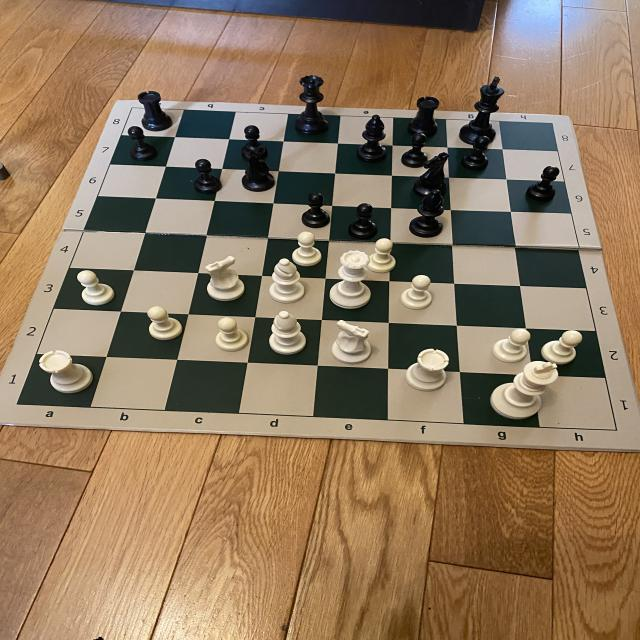Chessboard-Corners: (608, 425, 629, 436), (544, 119, 562, 130), (10, 399, 30, 408), (125, 104, 140, 114)
